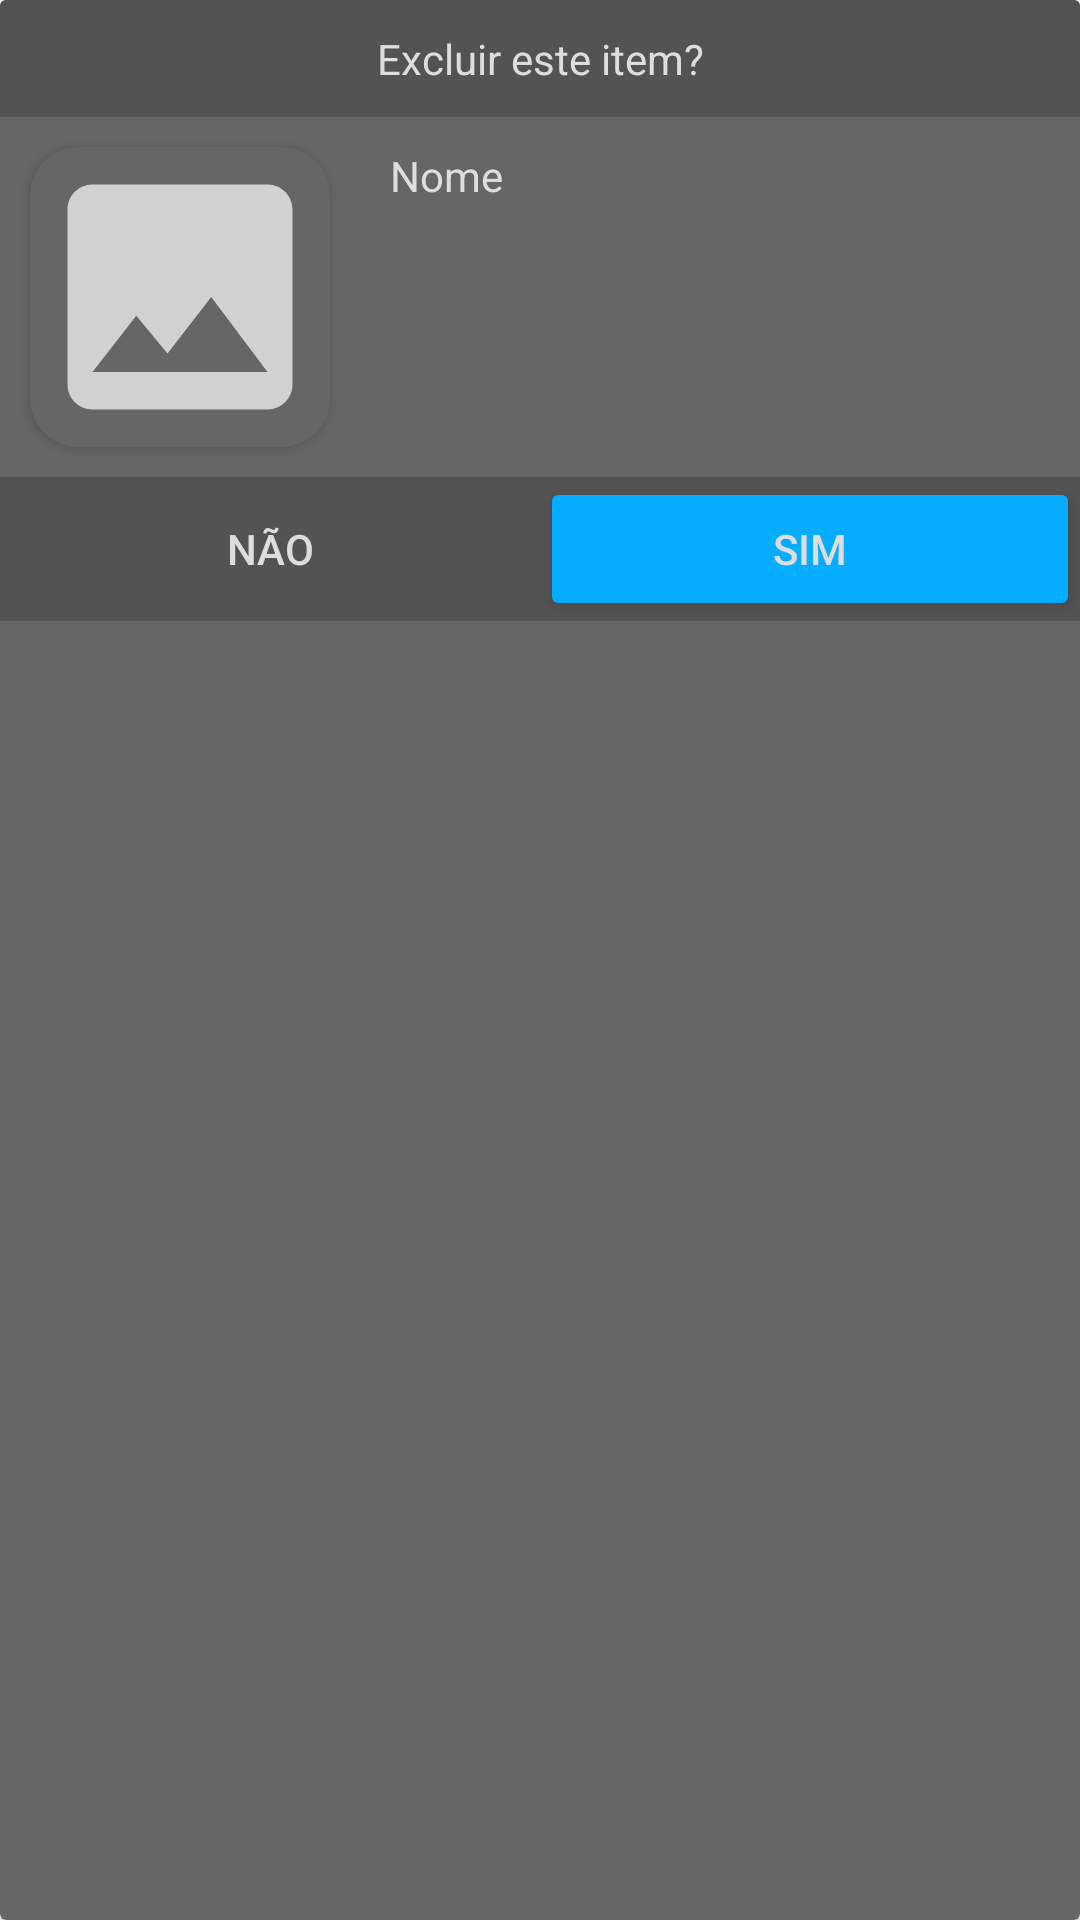

Where to tap for icons on this 1080px×1920px app screen, as (x,y):
photo: (180,297)
